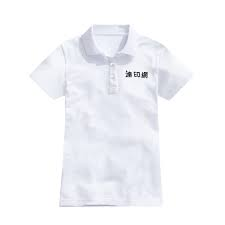S_polo shirt: (26, 25, 190, 208)
